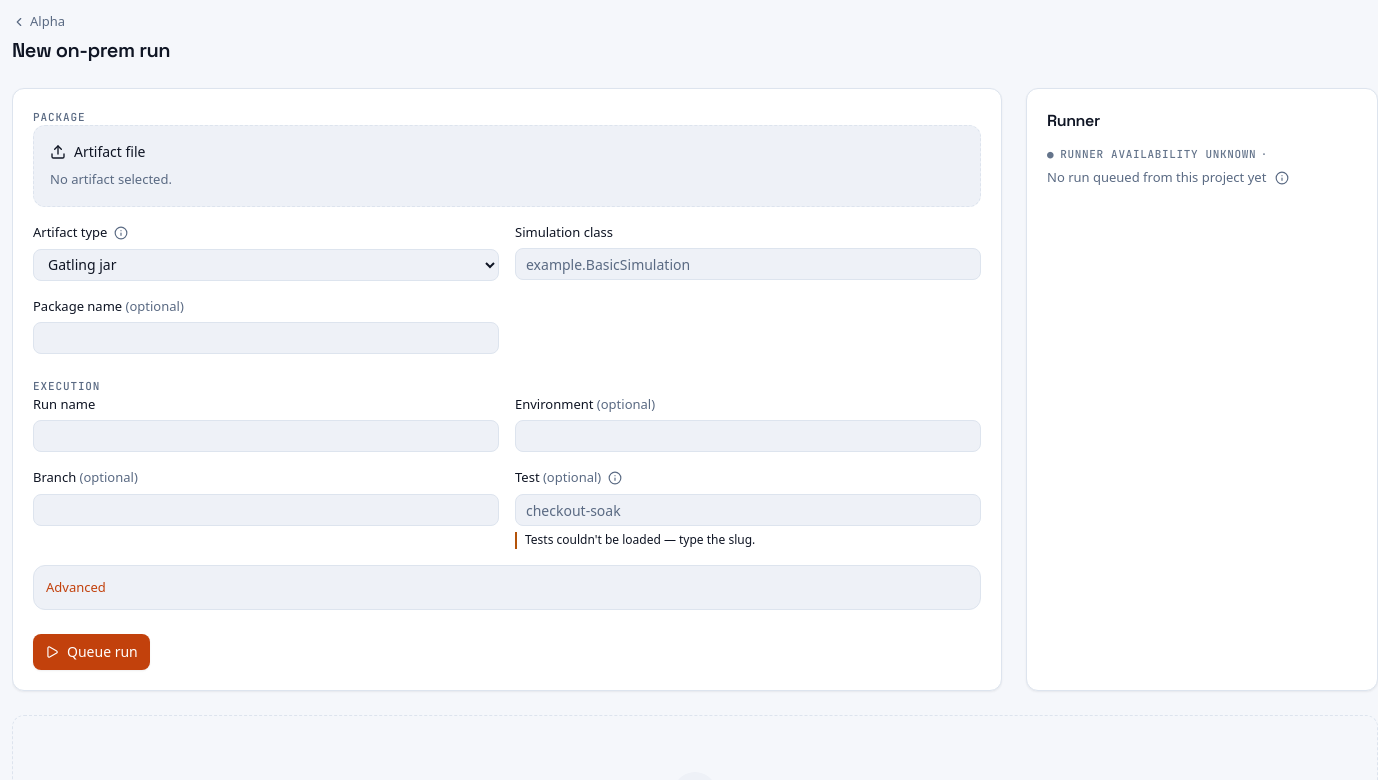
it: NewRunnerRun › checks the typed slug the same way when the tests list cannot load
The image size is (1378, 780).
Type "Checkout Soak" into the field with placeholder "checkout-soak" at (748, 510), box [515,494,981,526]
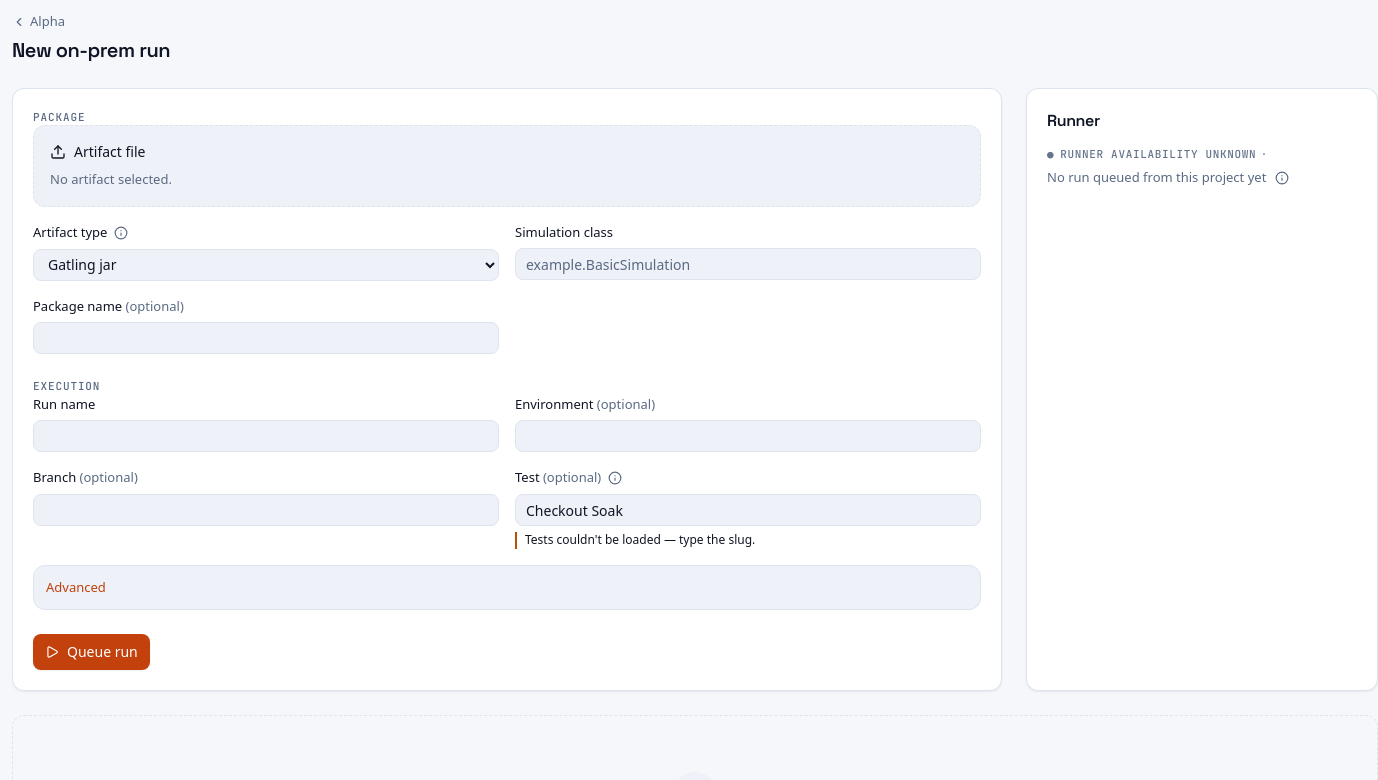
Leave the field with placeholder "checkout-soak", box [515,494,981,526]
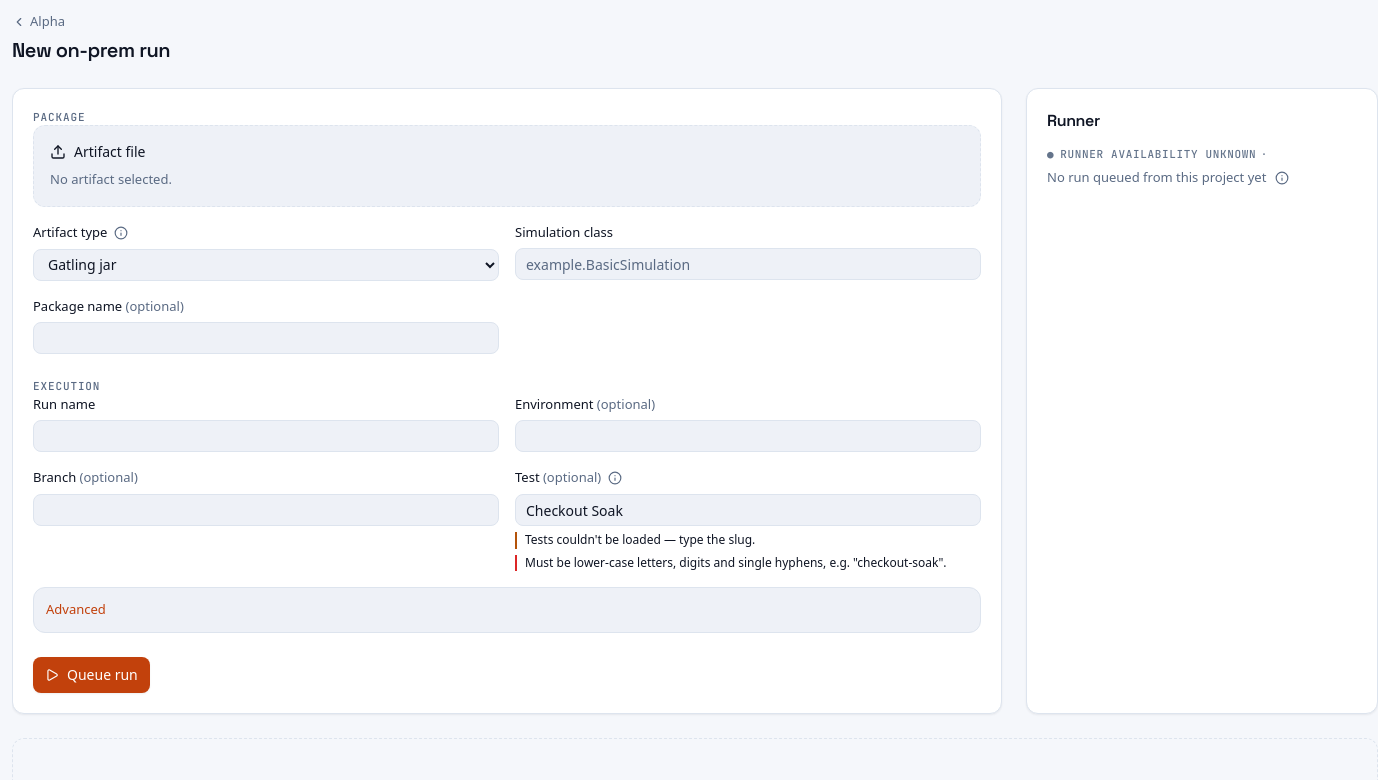
// Empty is the default grouping, not a mistake.
Clear the field with placeholder "checkout-soak" at (748, 510), box [515,494,981,526]
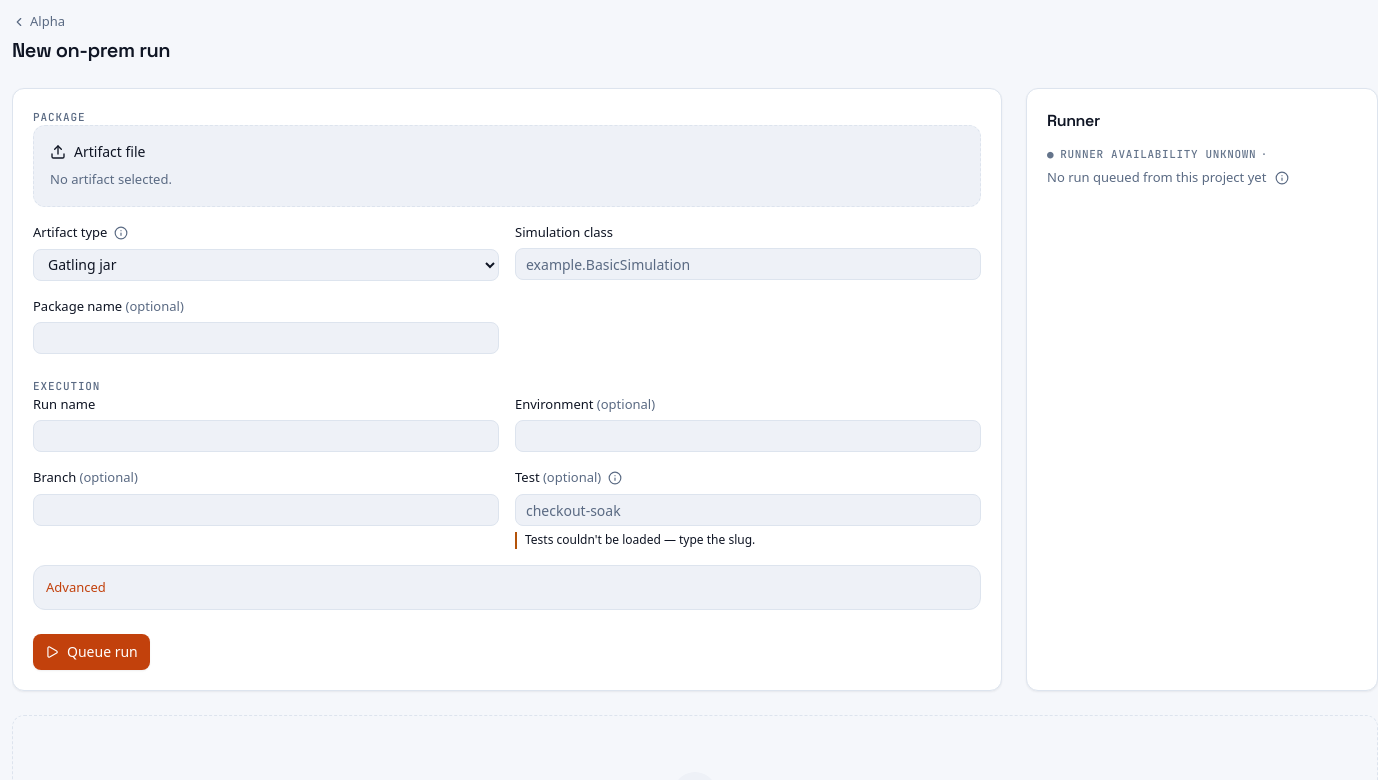
Check: the text with id "runner-test-error" is gone
